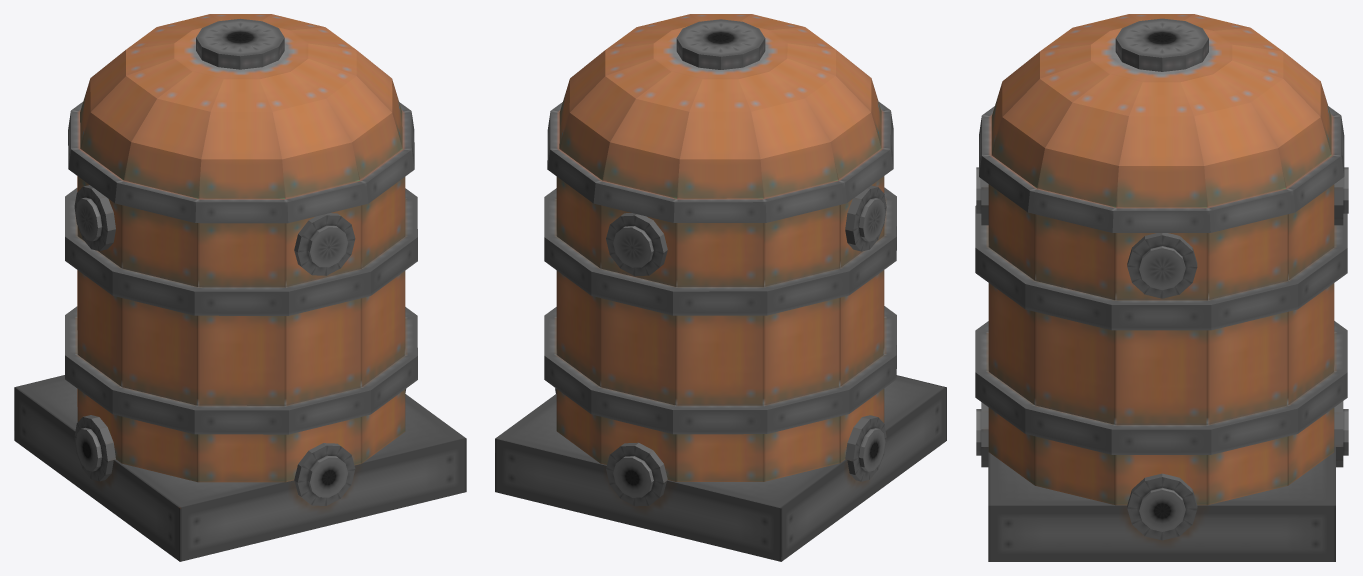
File: boiler.obj
3 renders of one model, left to right at view 1: azimuth 30°, elevation 25°; view 2: azimuth 150°, elevation 25°; view 3: azimuth 270°, elevation 25°, orthographic. The views are drawn at different scales.
Visible parts, largest first — view 1: Цилиндр.001; view 2: Цилиндр.001; view 3: Цилиндр.001.
Boxes of the visible parts, x1,y1,x2,y2 form: Цилиндр.001: (14, 14, 466, 561); Цилиндр.001: (495, 14, 946, 561); Цилиндр.001: (975, 14, 1348, 561).
Size of the model in its own units: 3 by 4 by 3.01.
